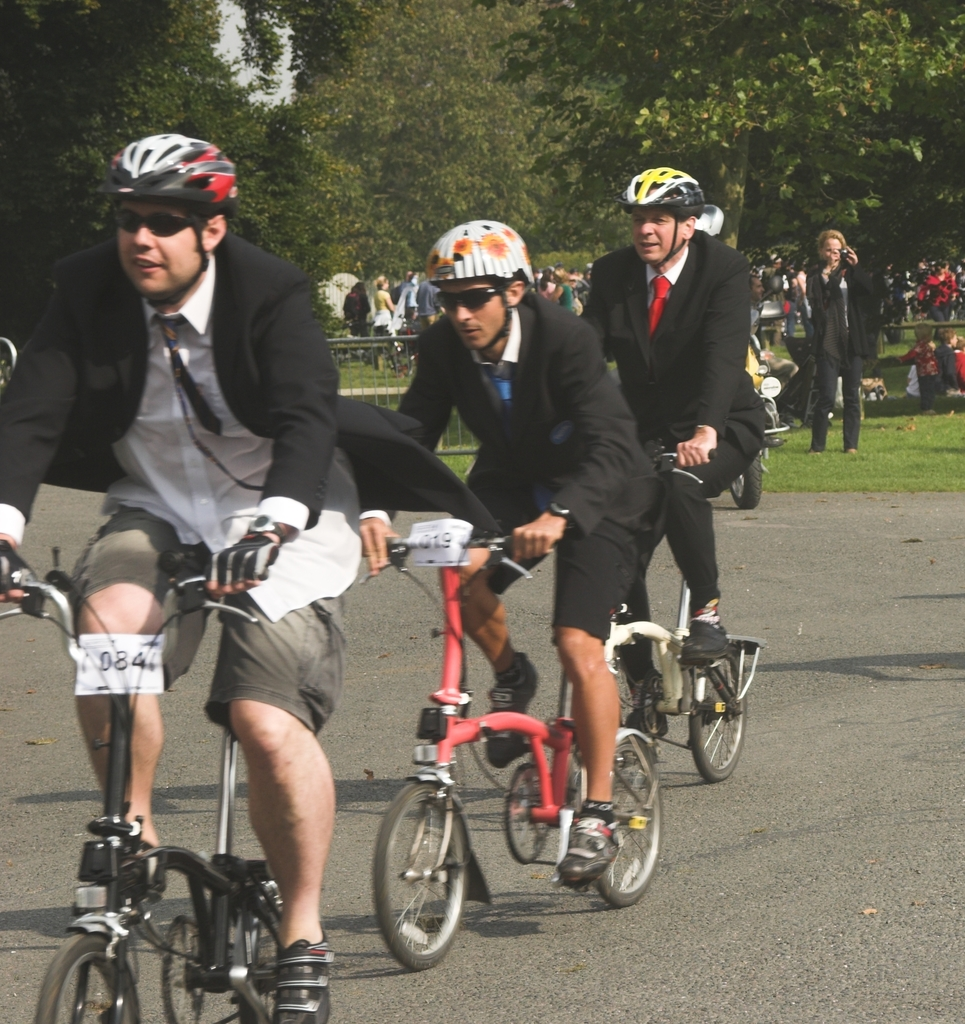Bike: (5, 570, 353, 1005), (359, 536, 670, 975)
